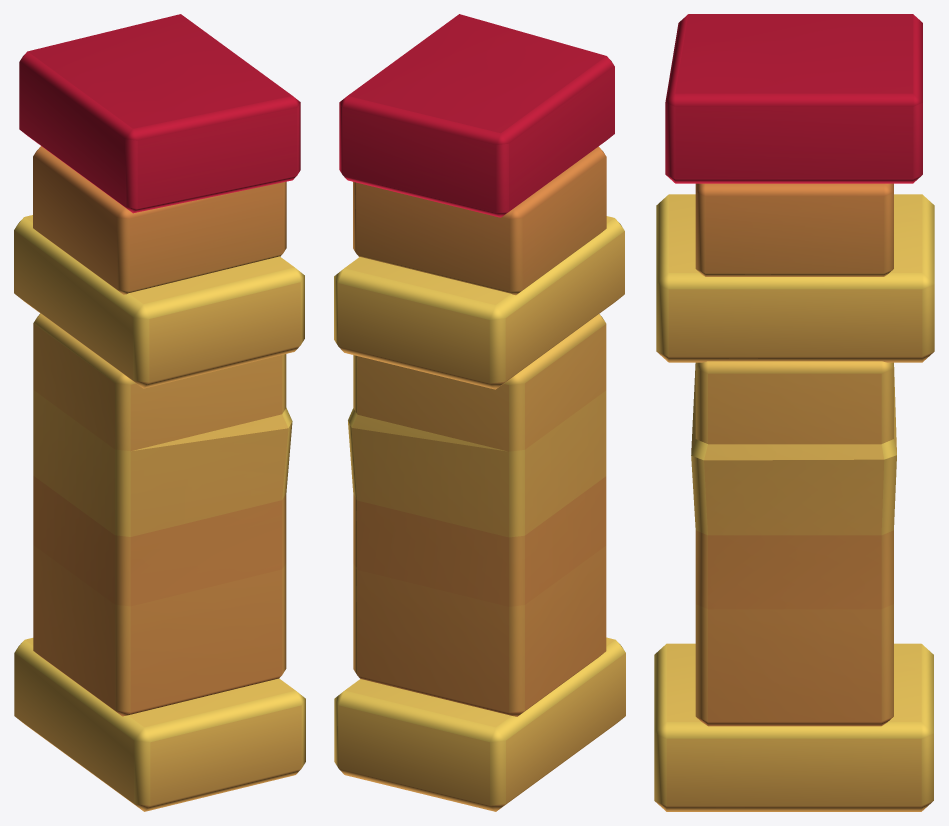
Rendered from wall_mid_half.fbx.
The picture shows the model from 3 angles, left to right: view 1: azimuth 30°, elevation 25°; view 2: azimuth 150°, elevation 25°; view 3: azimuth 270°, elevation 25°; orthographic projection. The views are drawn at different scales.
Parts seen in each view (by area): view 1: wall_mid_half2; view 2: wall_mid_half2; view 3: wall_mid_half2.
Boxes of the visible parts, x1,y1,x2,y2 form: wall_mid_half2: (14, 14, 305, 811); wall_mid_half2: (334, 14, 625, 811); wall_mid_half2: (654, 14, 934, 811).
Size of the model in its own units: 109 by 400 by 141.
